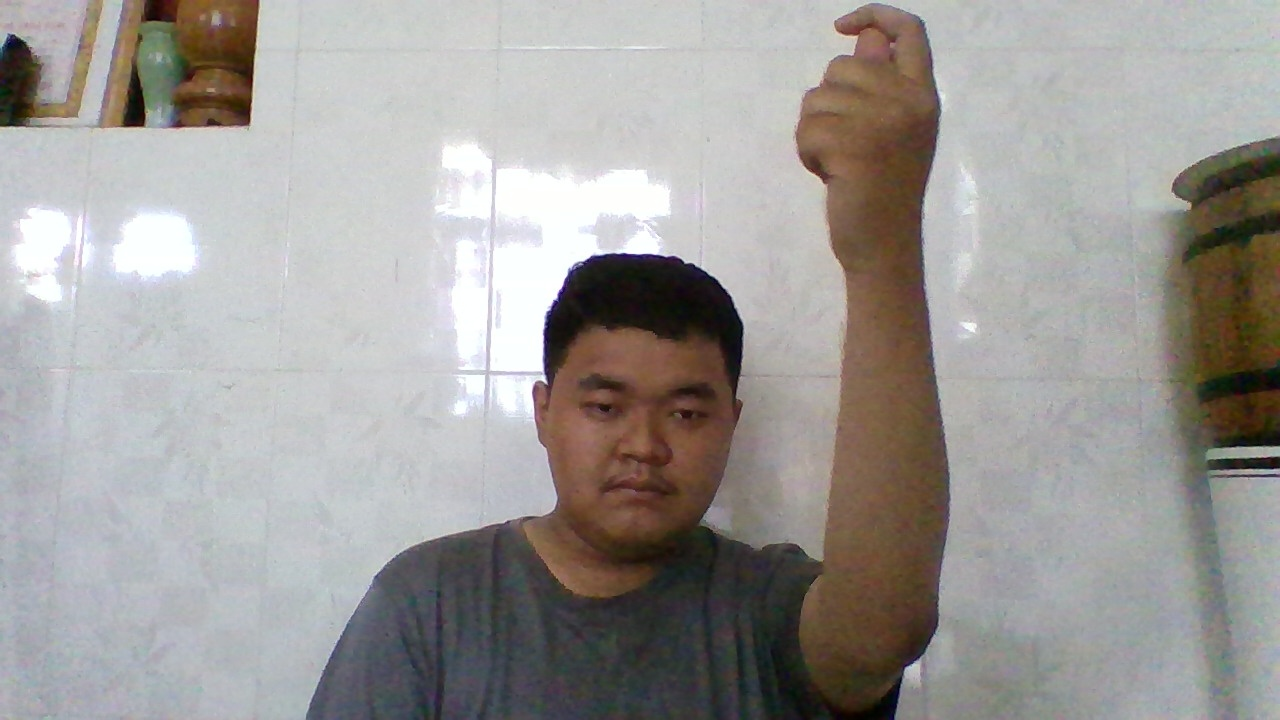X: (791, 0, 946, 257)
